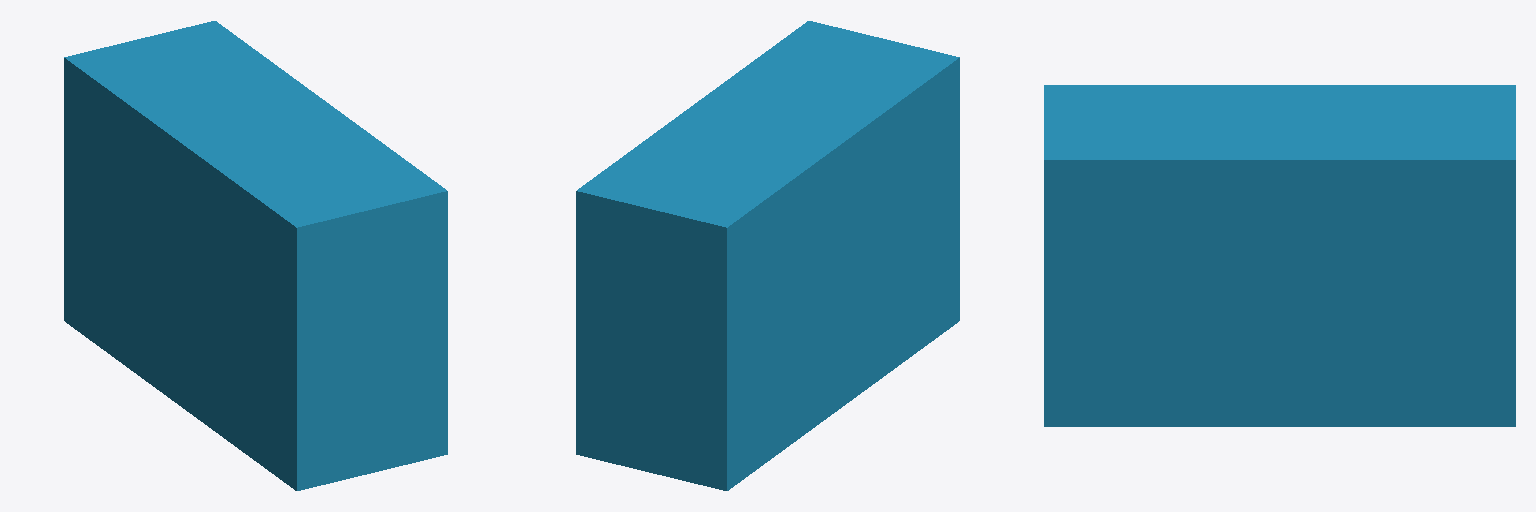
robot.urdf — cube:
<?xml version="1.0"?>
 <robot name="cube">
   <material name="blue">
     <color rgba="0.2 0.63137 0.788 1"/>
   </material>
   
   <material name="qw">
     <color rgba="0.062 0.16 0.21343700408935547 1"/>
   </material>
   
   
   <link name="base_link">
     <visual>
       <geometry>
         <box size="0.16 0.10 0.06"/>
       </geometry>
       <origin xyz="0 0 0.1067185" rpy="1.5707963 0 1.5707963"/>
       <material name="blue"/>
     </visual>
     <inertial>
       <mass value="0"/>
       <inertia ixx="1.0" ixy="0.0" ixz="0.0" iyy="1.0" iyz="0.0" izz="1.0"/>
     </inertial>
   </link>
 </robot>

--- Facts derived from the render (not from the file) ---
3 views of the same robot in one strip: view 1: azimuth 30°, elevation 25°; view 2: azimuth 150°, elevation 25°; view 3: azimuth 270°, elevation 25° (orthographic).
Robot: cube — 1 links, 0 joints (none); root link base_link; default pose: all joints at 0.
Visible links, largest first — view 1: base_link; view 2: base_link; view 3: base_link.
Link boxes in pixels (<box>): base_link: <box>64,21,447,490</box>; base_link: <box>576,21,959,490</box>; base_link: <box>1044,85,1515,426</box>.
Size in the robot's own frame: 0.06 by 0.16 by 0.1 metres.
Geometry: primitives only (box / cylinder / sphere), no mesh files.